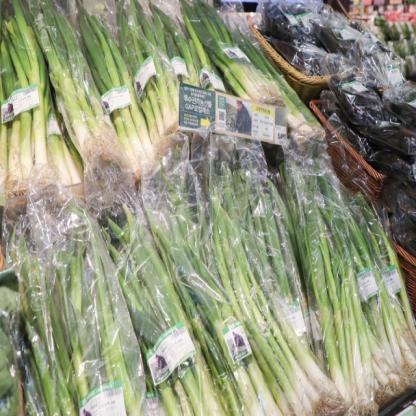green onion: (215, 170, 337, 416), (122, 189, 230, 414), (30, 11, 124, 220), (62, 20, 166, 198), (298, 176, 366, 414), (190, 1, 298, 137), (108, 0, 192, 169), (0, 8, 64, 208)
